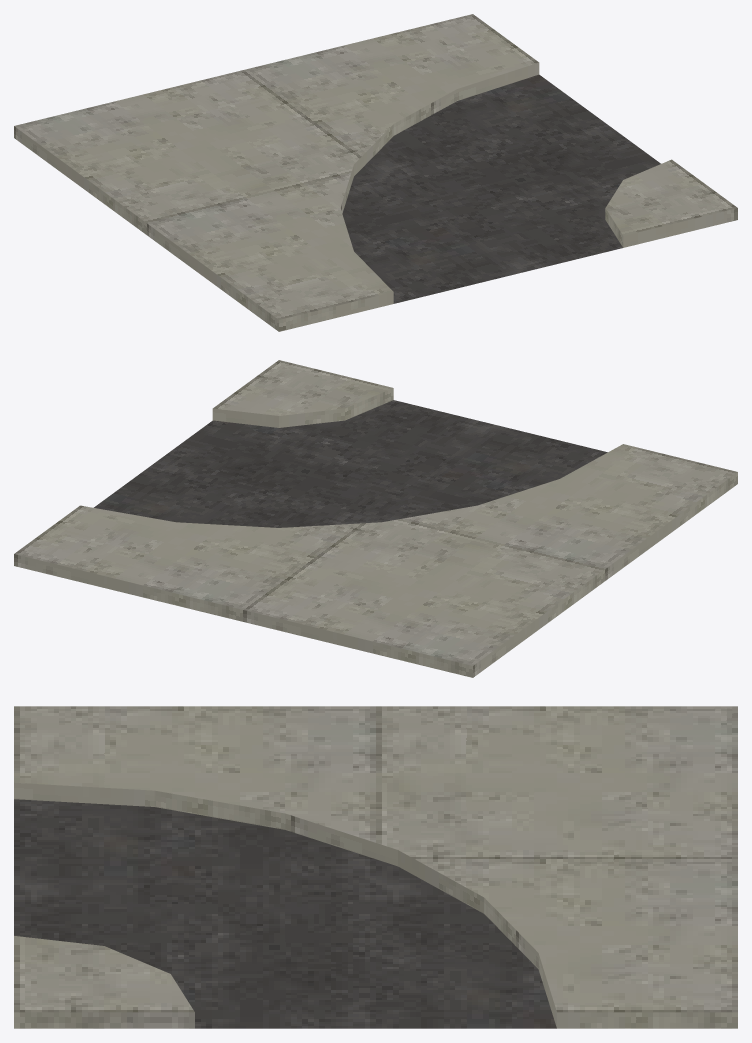
File: road-asphalt-corner.glb
3 views of the same model, one above another, from view 1: azimuth 30°, elevation 25°; view 2: azimuth 150°, elevation 25°; view 3: azimuth 270°, elevation 25° (orthographic). The views are drawn at different scales.
Parts seen in each view (by area): view 1: road-asphalt-corner; view 2: road-asphalt-corner; view 3: road-asphalt-corner.
Boxes of the visible parts, bbox=[...] form: road-asphalt-corner: bbox=[14, 14, 737, 331]; road-asphalt-corner: bbox=[14, 360, 737, 677]; road-asphalt-corner: bbox=[14, 706, 737, 1028].
Size of the model in its own units: 2 by 0.0501 by 2.
Materials: 2 (2 with a texture image).
